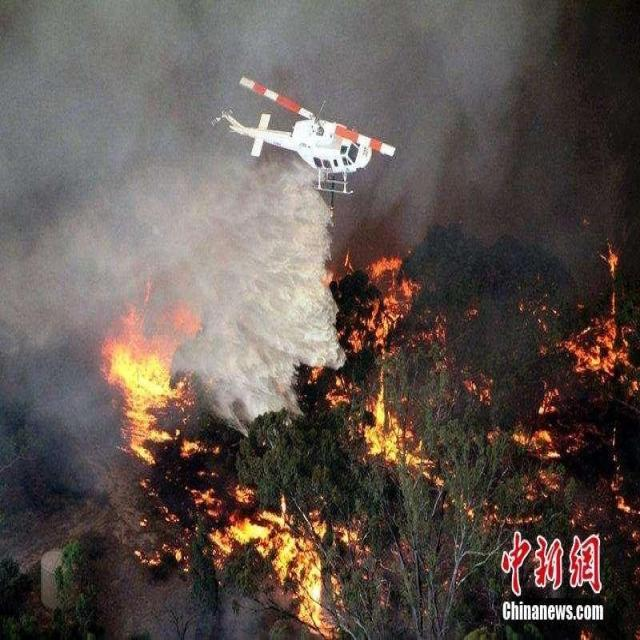Fire: (98, 239, 640, 640)
Smoke: (1, 1, 554, 454)
